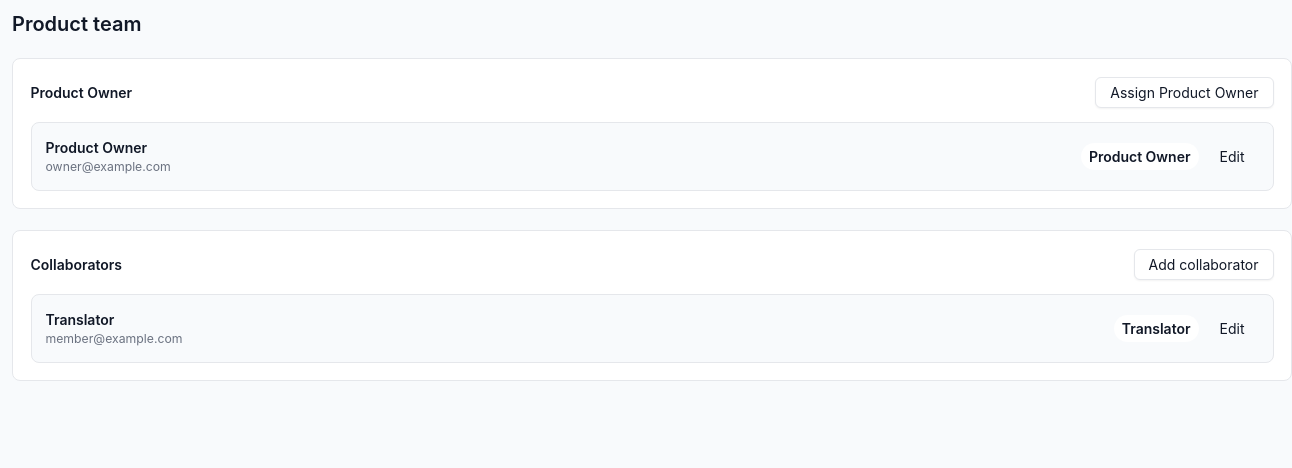
moves a promoted collaborator into Product Owner after the administrator saves
Click the button with aria-label "Edit member@example.com" at {"x": 1232, "y": 328}, box [1206,312,1258,344]
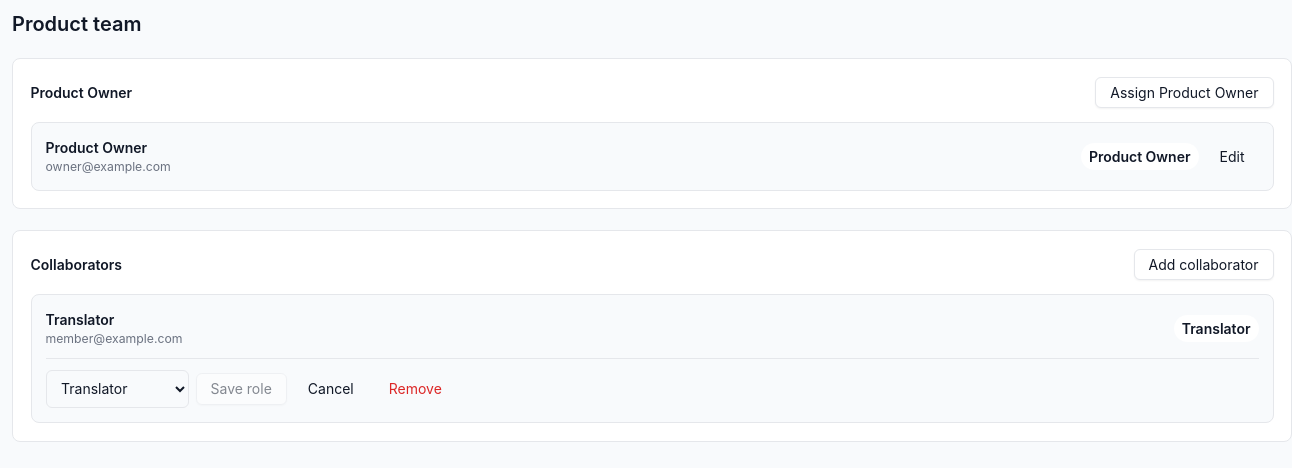
Select "Product Owner" in the dropdown named "Role for member@example.com" at {"x": 117, "y": 389}, box [46,370,188,408]
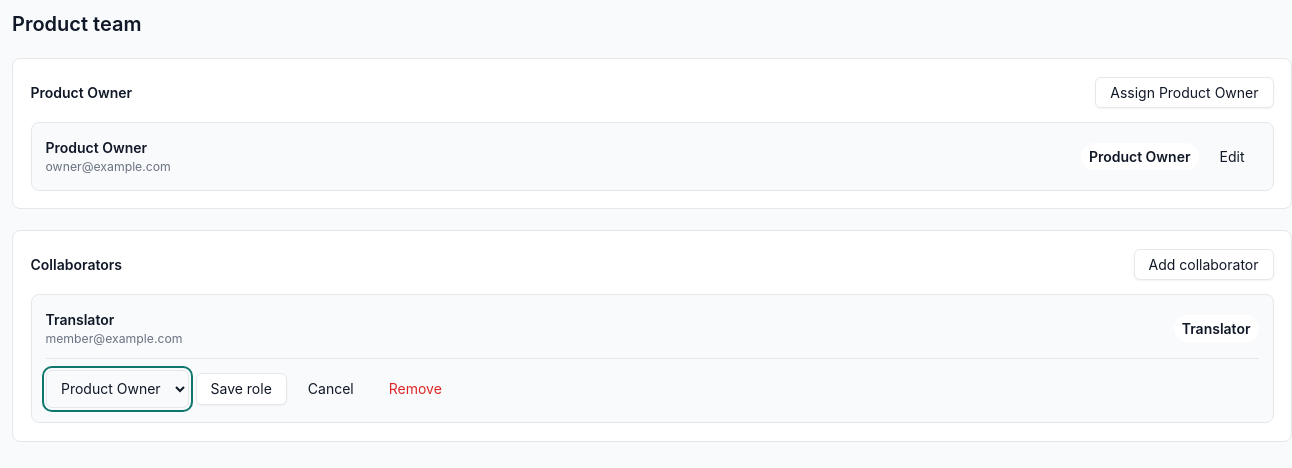
Click the button "Save role" at {"x": 241, "y": 389}, box [196,373,287,404]
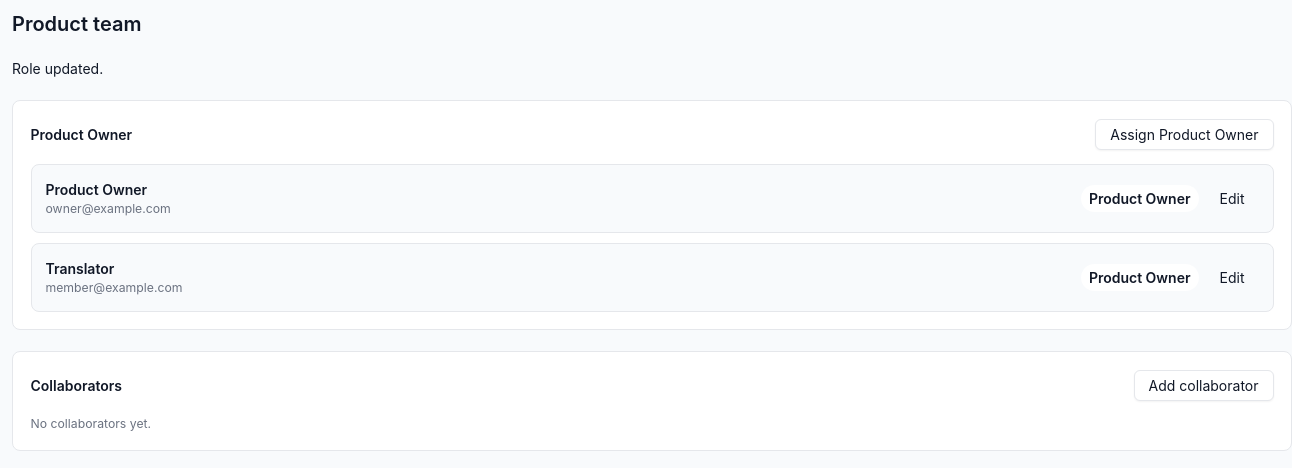
Check: the text "member@example.com" is shown, box [46,279,183,296]
Check: the element "Collaborators" shows "No collaborators yet.", box [30,416,151,431]
